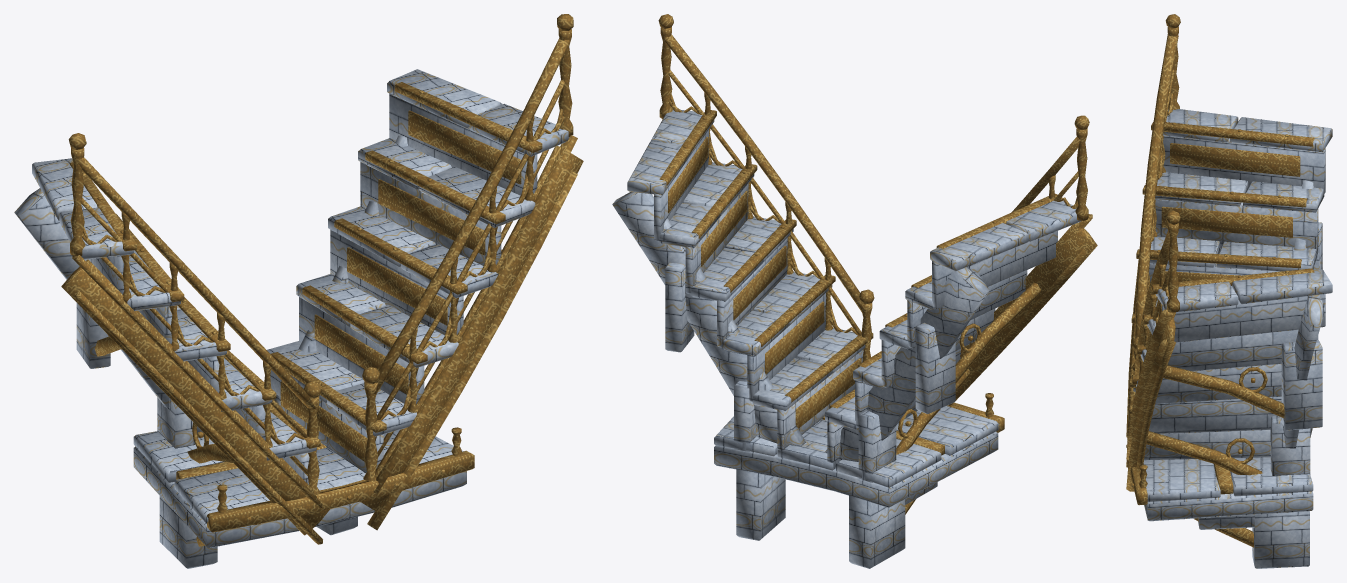
File: real_staircase.glb
3 renders of one model, left to right at view 1: azimuth 30°, elevation 25°; view 2: azimuth 150°, elevation 25°; view 3: azimuth 270°, elevation 25°, orthographic. The views are drawn at different scales.
Visible parts, largest first — view 1: stair_flight_R_metal, stair_flight_R_stone, stair_flight_L_metal, stair_flight_L_stone, terrace_deck_stone, terrace_deck_metal; view 2: stair_flight_R_stone, stair_flight_L_stone, stair_flight_R_metal, terrace_deck_stone, stair_flight_L_metal, terrace_deck_metal; view 3: stair_flight_R_stone, stair_flight_L_stone, stair_flight_L_metal, terrace_deck_stone, stair_flight_R_metal, terrace_deck_metal.
Boxes of the visible parts, box(x1,y1,x2,y2) form: stair_flight_R_metal: box(271, 14, 583, 530); stair_flight_R_stone: box(267, 69, 569, 472); stair_flight_L_metal: box(61, 133, 329, 544); stair_flight_L_stone: box(14, 158, 316, 484); terrace_deck_stone: box(133, 430, 466, 568); terrace_deck_metal: box(176, 427, 474, 546); stair_flight_R_stone: box(612, 109, 865, 454); stair_flight_L_stone: box(825, 200, 1081, 482); stair_flight_R_metal: box(658, 14, 874, 428); terrace_deck_stone: box(714, 406, 999, 568); stair_flight_L_metal: box(829, 115, 1097, 454); terrace_deck_metal: box(822, 393, 1004, 514); stair_flight_R_stone: box(1136, 269, 1332, 475); stair_flight_L_stone: box(1133, 109, 1332, 392); stair_flight_L_metal: box(1126, 14, 1314, 467); terrace_deck_stone: box(1143, 428, 1313, 568); stair_flight_R_metal: box(1126, 210, 1314, 491); terrace_deck_metal: box(1126, 444, 1253, 547).
Size of the model in its own units: 2.86 by 2.69 by 1.19.
2 materials, 2 textured.
